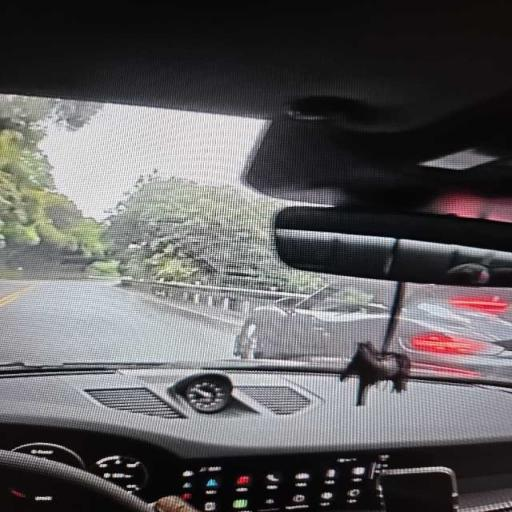car: (0, 2, 511, 511), (234, 282, 389, 364)
lane: (0, 281, 235, 362)
